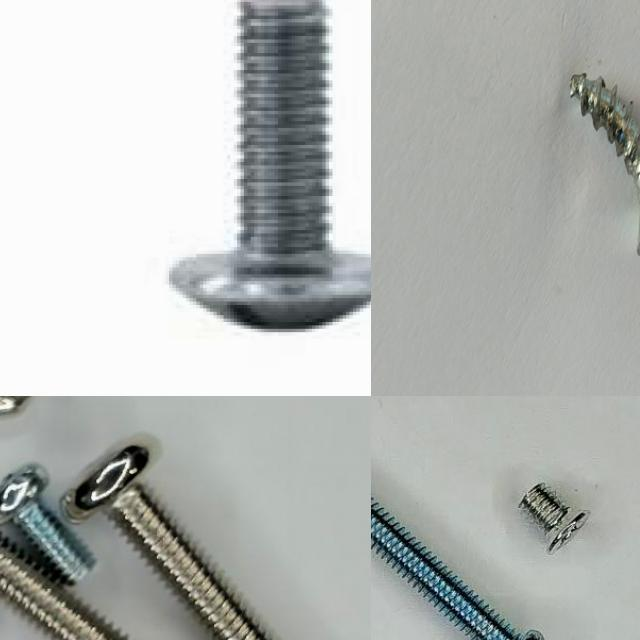Screw: (172, 0, 371, 332), (62, 444, 270, 640), (371, 496, 545, 640), (0, 533, 132, 640), (0, 464, 96, 585), (570, 72, 640, 203), (520, 482, 591, 553)
